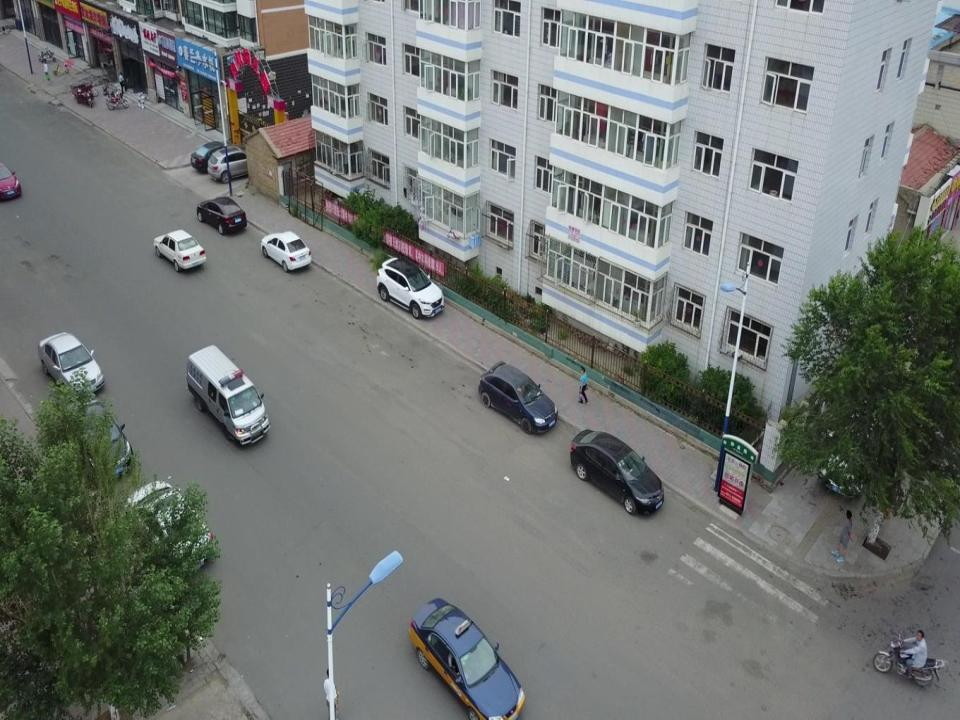car: (408, 597, 526, 720), (124, 480, 214, 573), (570, 427, 664, 516), (63, 396, 135, 484), (817, 406, 884, 498), (478, 360, 558, 435), (38, 331, 106, 399), (376, 257, 444, 319), (153, 229, 207, 273), (207, 145, 269, 183), (260, 230, 312, 273), (196, 196, 247, 235), (190, 141, 248, 172), (0, 161, 22, 203)
van: (186, 344, 271, 445)
